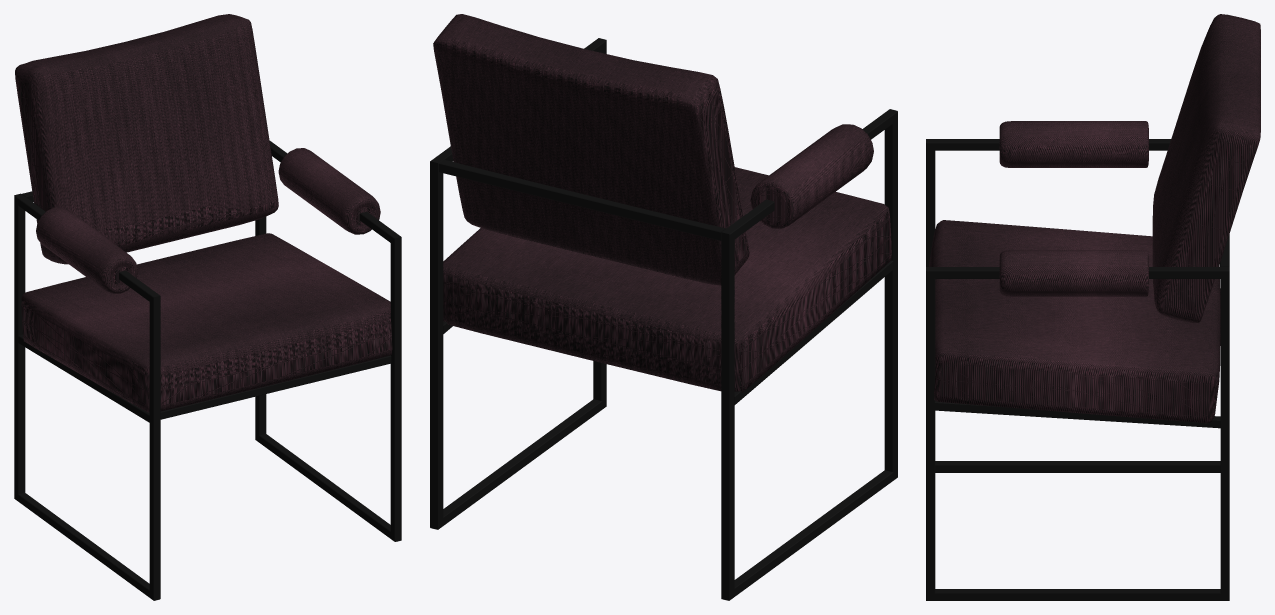
Rendered from CGT_Armchair_046.glb.
3 renders of one model, left to right at view 1: azimuth 30°, elevation 25°; view 2: azimuth 150°, elevation 25°; view 3: azimuth 270°, elevation 25°, orthographic. The views are drawn at different scales.
Visible parts, largest first — view 1: CGT_Armchair_046; view 2: CGT_Armchair_046; view 3: CGT_Armchair_046.
Boxes of the visible parts, box(x1,y1,x2,y2) form: CGT_Armchair_046: box(14, 14, 401, 600); CGT_Armchair_046: box(430, 14, 897, 600); CGT_Armchair_046: box(926, 14, 1260, 600).
Bounding box in the file's own units: 0.631 × 0.9213 × 0.5999.
2 materials, 1 textured.
